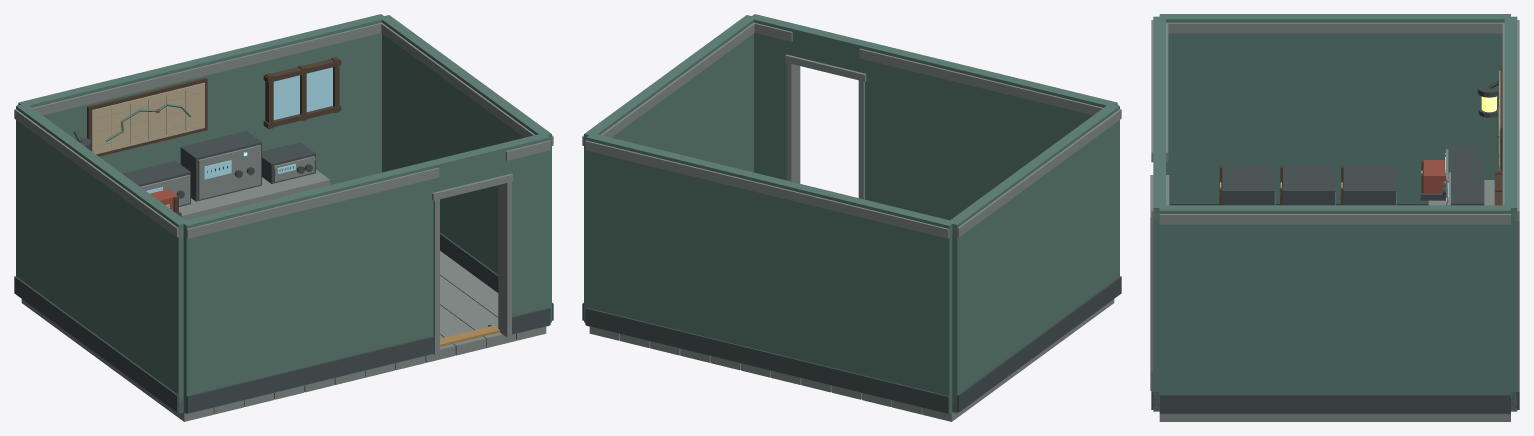
Rendered from radio_outpost.glb.
3 views of the same model, side by side, from view 1: azimuth 30°, elevation 25°; view 2: azimuth 150°, elevation 25°; view 3: azimuth 270°, elevation 25° (orthographic). The views are drawn at different scales.
Parts seen in each view (by area): view 1: Wall_South, Wall_North, Wall_West, Wall_East, Furniture, Floor; view 2: Wall_North, Wall_South, Wall_West, Wall_East, Floor; view 3: Wall_East, Wall_West, Furniture, Wall_North, Wall_South, Floor, SignalOn.
Boxes of the visible parts, x1,y1,x2,y2 form: Wall_South: (181,134,550,414); Wall_North: (17,14,383,184); Wall_West: (14,105,185,413); Wall_East: (379,15,553,322); Furniture: (123,131,329,220); Floor: (21,251,546,421); Wall_North: (585,134,954,414); Wall_South: (749,14,1118,220); Wall_West: (950,105,1121,413); Wall_East: (582,15,755,322); Floor: (589,299,1114,421); Wall_East: (1159,205,1510,414); Wall_West: (1159,14,1510,205); Furniture: (1219,145,1494,205); Wall_North: (1477,16,1519,411); Wall_South: (1150,16,1169,411); Floor: (1159,414,1510,421); SignalOn: (1421,160,1447,202).
Size of the model in its own units: 5.19 by 2.61 by 4.08.
